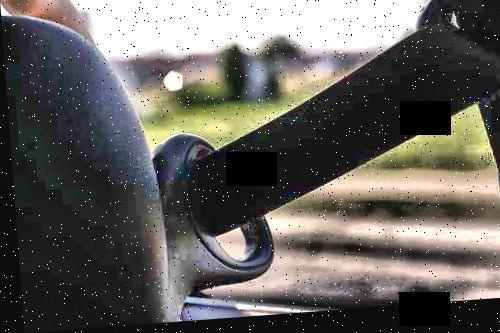seatbelt: (170, 0, 492, 282)
